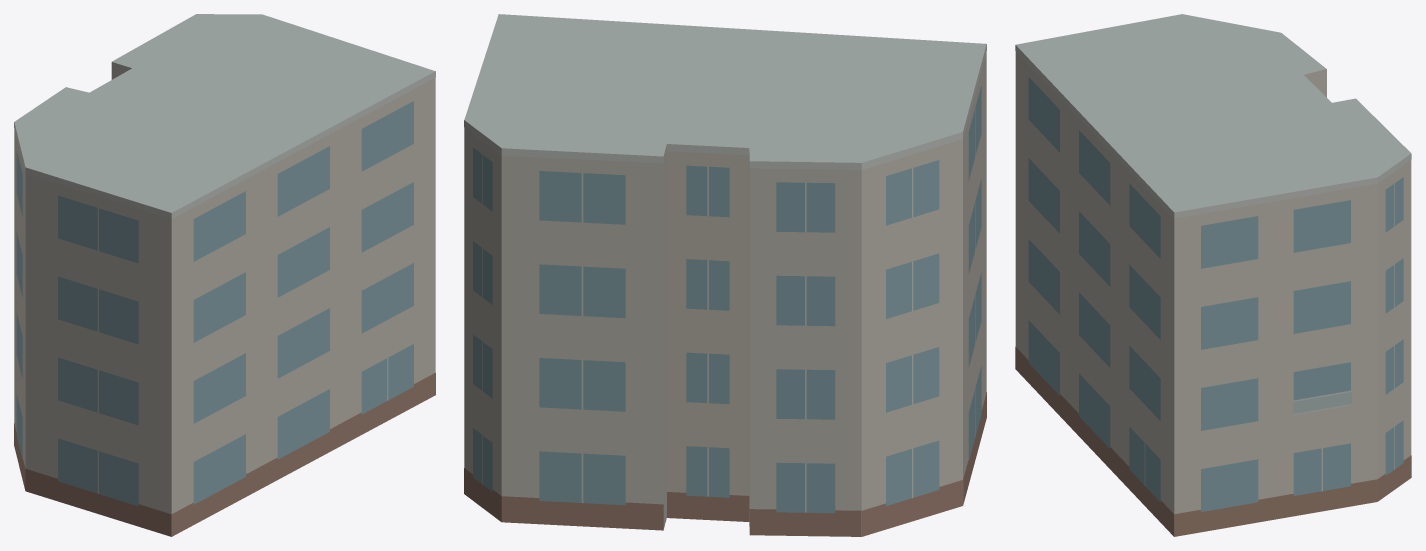
The model's file is survey-upis-32860457.glb.
3 views of the same model, side by side, from view 1: azimuth 30°, elevation 25°; view 2: azimuth 150°, elevation 25°; view 3: azimuth 270°, elevation 25° (orthographic). The views are drawn at different scales.
Visible parts, largest first — view 1: survey-upis-32860457.tmp; view 2: survey-upis-32860457.tmp; view 3: survey-upis-32860457.tmp.
Boxes of the visible parts, x1=… form: survey-upis-32860457.tmp: x1=14, y1=14, x2=435, y2=536; survey-upis-32860457.tmp: x1=464, y1=14, x2=986, y2=536; survey-upis-32860457.tmp: x1=1015, y1=14, x2=1411, y2=536.
Size of the model in its own units: 16.68 by 12.7 by 14.06.
